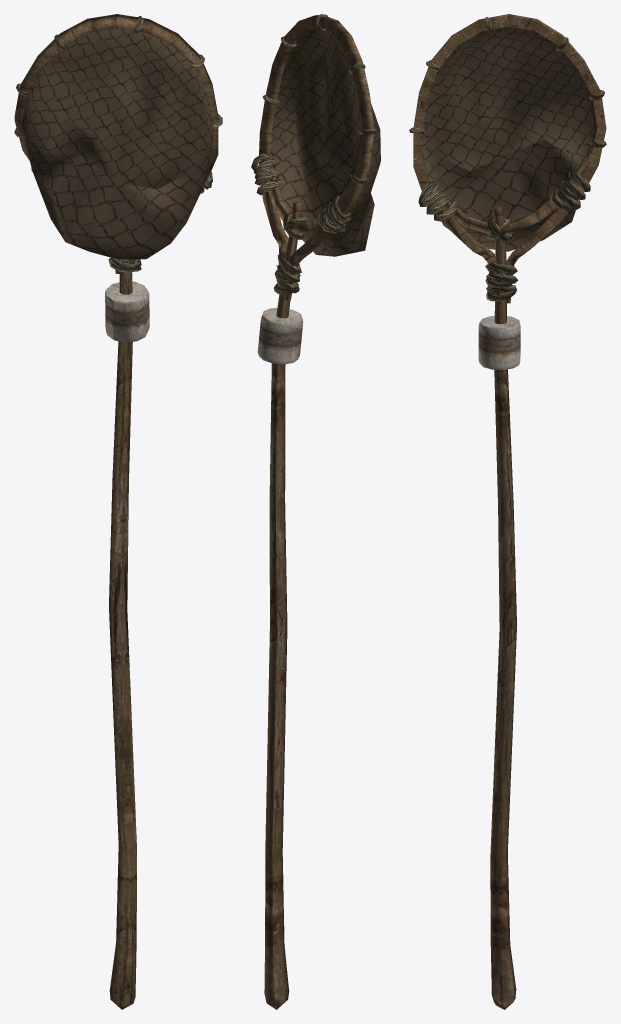
The model's file is fish_landing.obj.
3 views of the same model, side by side, from view 1: azimuth 90°, elevation 25°; view 2: azimuth 210°, elevation 25°; view 3: azimuth 270°, elevation 25° (orthographic). The views are drawn at different scales.
Visible parts, largest first — view 1: fish_landing; view 2: fish_landing; view 3: fish_landing.
Part boxes in pixels (<box>): fish_landing: <box>14,14,222,1009</box>; fish_landing: <box>251,14,380,1009</box>; fish_landing: <box>409,14,606,1009</box>.
Bounding box in the file's own units: 10.7 × 110 × 20.27.
